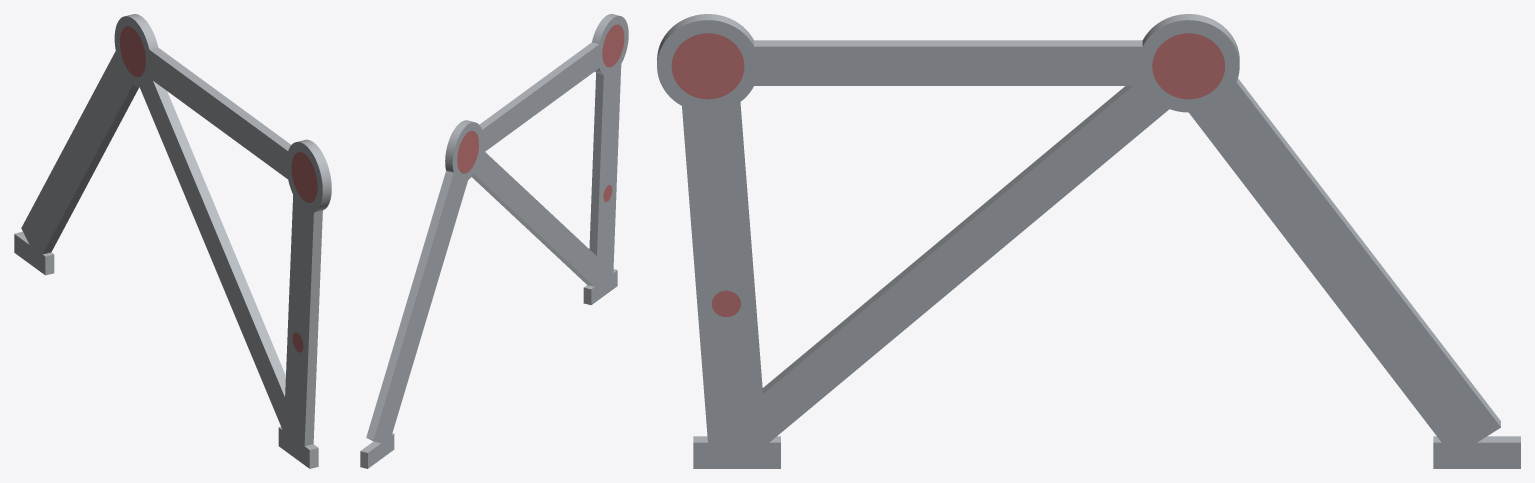
The model's file is step_04.glb.
The picture shows the model from 3 angles, left to right: view 1: azimuth 30°, elevation 25°; view 2: azimuth 150°, elevation 25°; view 3: azimuth 270°, elevation 25°; orthographic projection. The views are drawn at different scales.
Parts seen in each view (by area): view 1: part__leg, removed__leg; view 2: part__leg, removed__leg; view 3: part__leg, removed__leg.
Boxes of the visible parts, left/top/right/bottom form: part__leg: left=14, top=14, right=331, bottom=468; removed__leg: left=120, top=26, right=317, bottom=352; part__leg: left=360, top=14, right=628, bottom=468; removed__leg: left=457, top=24, right=624, bottom=202; part__leg: left=657, top=14, right=1520, bottom=468; removed__leg: left=671, top=33, right=1224, bottom=316.
Bounding box in the file's own units: 10 × 340 × 593.
